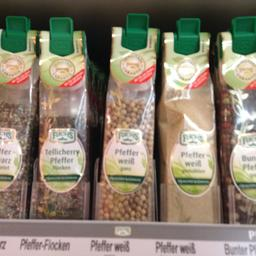spices: (97, 24, 158, 218), (160, 30, 219, 220), (36, 28, 86, 220), (215, 31, 255, 224), (0, 28, 33, 218)
